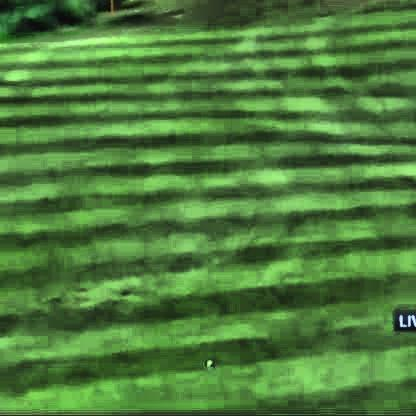golfball: (203, 356, 210, 363)
